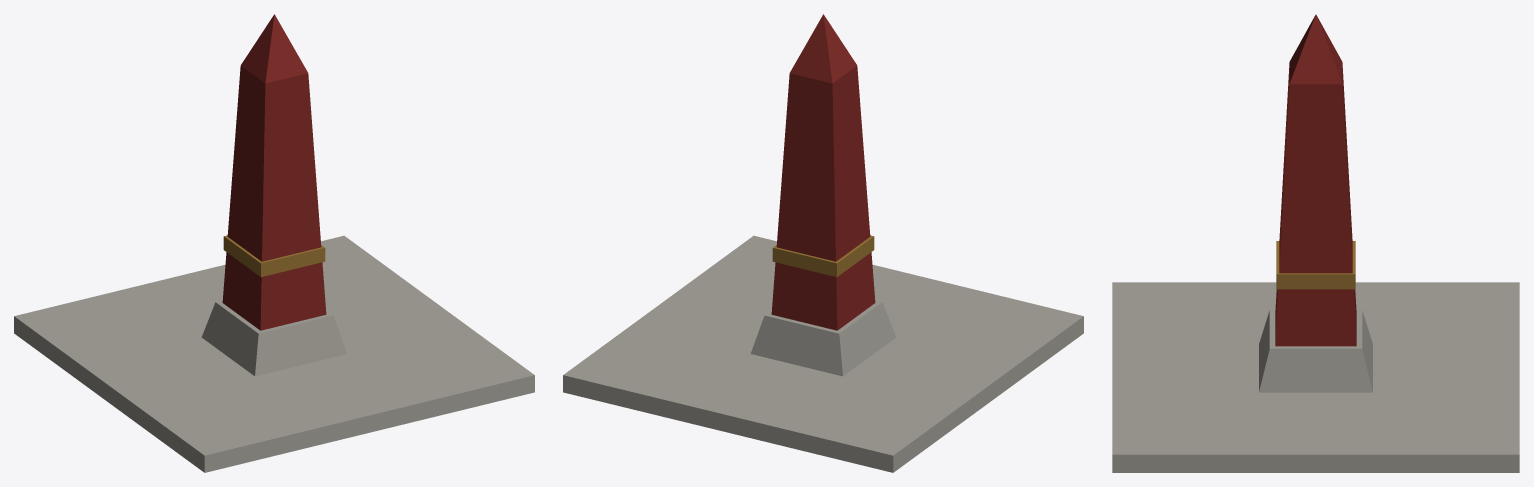
File: Monument1.fbx
The picture shows the model from 3 angles, left to right: view 1: azimuth 30°, elevation 25°; view 2: azimuth 150°, elevation 25°; view 3: azimuth 270°, elevation 25°; orthographic projection. The views are drawn at different scales.
Visible parts, largest first — view 1: Monument1; view 2: Monument1; view 3: Monument1.
Boxes of the visible parts, x1=… form: Monument1: x1=14, y1=14, x2=534, y2=472; Monument1: x1=563, y1=14, x2=1083, y2=472; Monument1: x1=1112, y1=14, x2=1519, y2=472.
Size of the model in its own units: 3 by 3.03 by 3.
